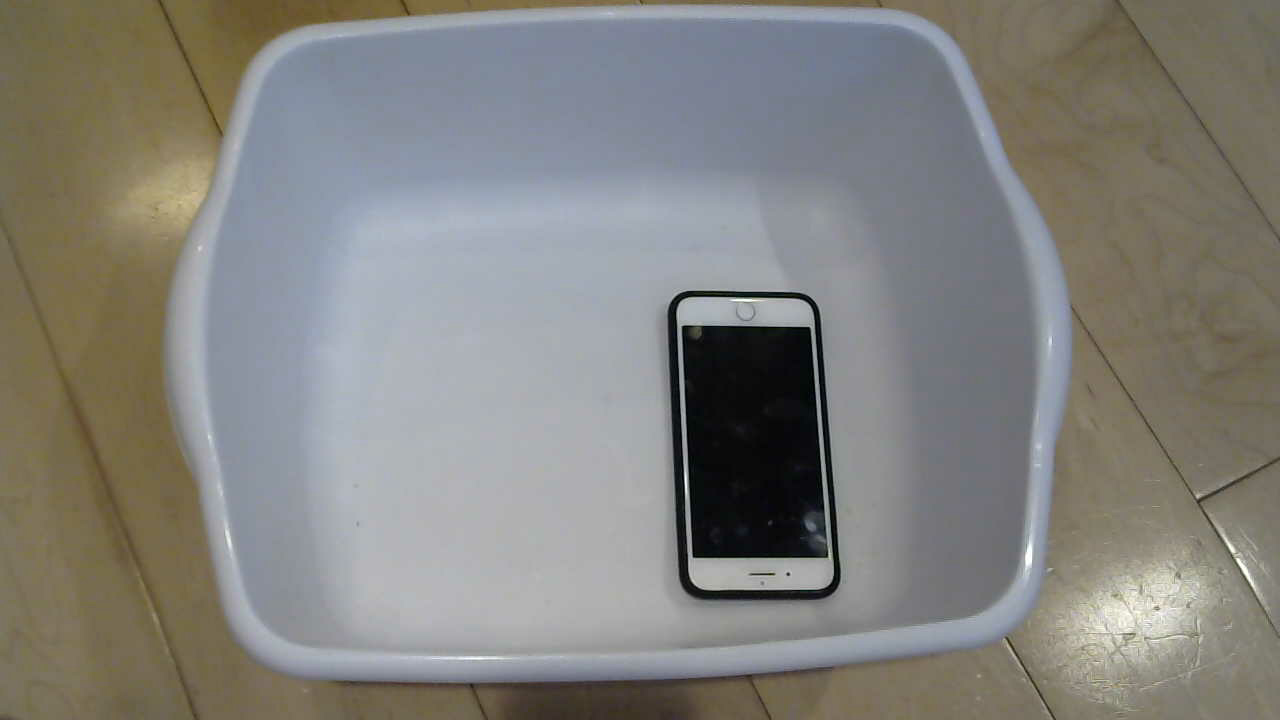phone: (652, 299, 851, 606)
